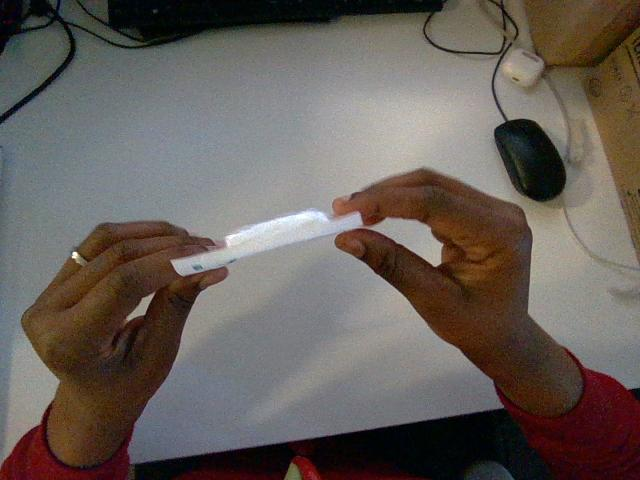gauze: (171, 209, 362, 275)
